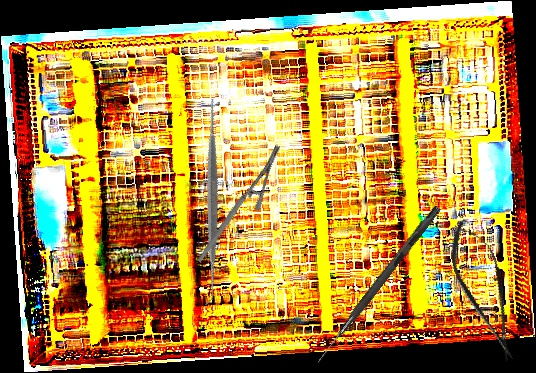Hook Surgical: (315, 203, 441, 367)
Micro Scissor: (438, 214, 532, 368)
Needle Holder: (169, 142, 308, 264)
Spatula Surgical: (106, 93, 318, 306)
